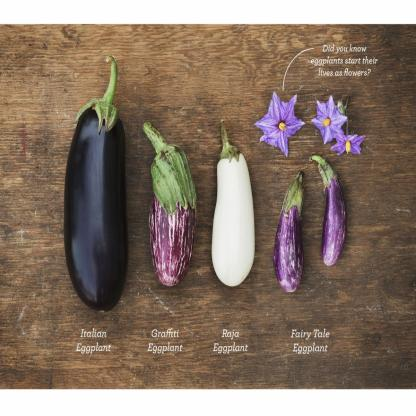--: (62, 51, 130, 316), (139, 112, 197, 290), (308, 147, 350, 267), (274, 164, 308, 302)
